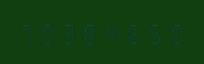eight: (80, 20, 100, 44)
five: (143, 20, 163, 44)
four: (101, 20, 121, 44)
seven: (17, 20, 37, 44)
six: (122, 20, 142, 44)
three: (59, 20, 79, 44)
zero: (38, 20, 58, 44), (164, 20, 184, 44)
